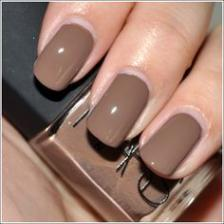brown: (29, 93, 222, 222), (87, 75, 149, 147), (34, 24, 93, 91), (140, 114, 200, 176)
